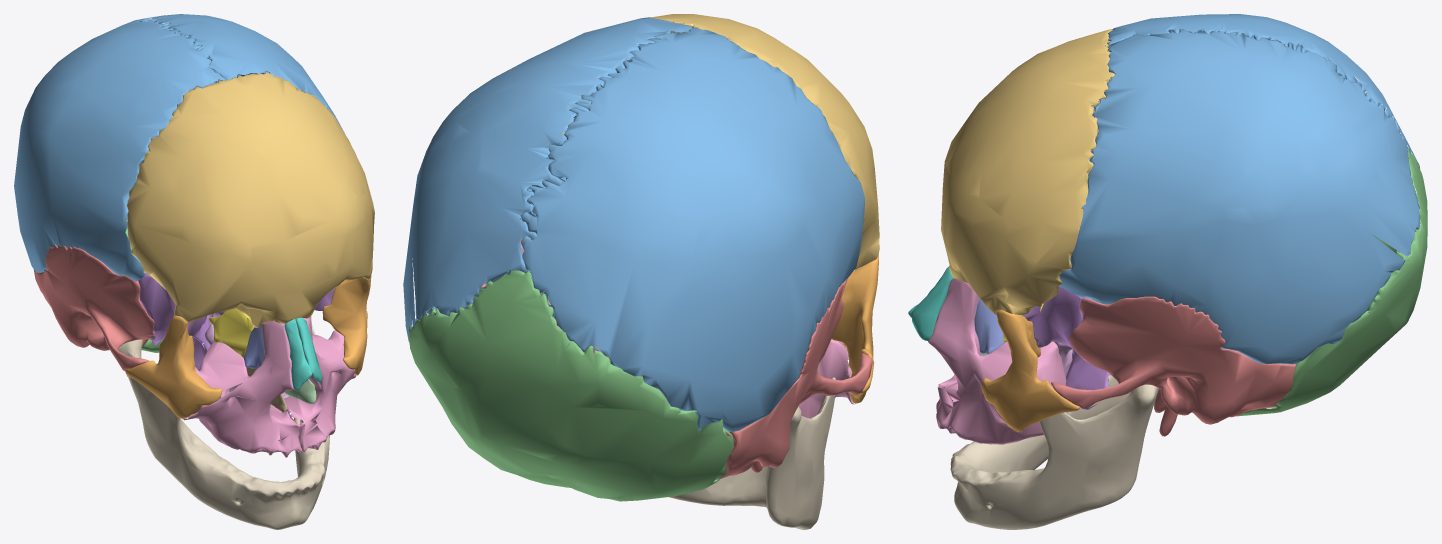
The model's file is skull-bp3d.glb.
3 views of the same model, side by side, from view 1: azimuth 30°, elevation 25°; view 2: azimuth 150°, elevation 25°; view 3: azimuth 270°, elevation 25° (orthographic). The views are drawn at different scales.
Parts seen in each view (by area): view 1: frontal_bone, right_parietal_bone, mandible, right_maxilla, right_temporal_bone, left_parietal_bone, right_zygomatic_bone, left_maxilla, left_zygomatic_bone, sphenoid_bone, ethmoid_bone, right_nasal_bone (+3 smaller); view 2: right_parietal_bone, occipital_bone, left_parietal_bone, frontal_bone, mandible, right_temporal_bone, right_zygomatic_bone, right_maxilla; view 3: left_parietal_bone, frontal_bone, mandible, left_temporal_bone, left_maxilla, occipital_bone, right_parietal_bone, left_zygomatic_bone, sphenoid_bone, left_nasal_bone, left_lacrimal_bone.
Boxes of the visible parts, bbox=[...] form: frontal_bone: bbox=[126, 72, 374, 327]; right_parietal_bone: bbox=[14, 18, 225, 281]; mandible: bbox=[118, 324, 329, 529]; right_maxilla: bbox=[182, 321, 302, 457]; right_temporal_bone: bbox=[33, 244, 154, 376]; left_parietal_bone: bbox=[138, 14, 344, 133]; right_zygomatic_bone: bbox=[125, 315, 222, 418]; left_maxilla: bbox=[271, 316, 355, 451]; left_zygomatic_bone: bbox=[322, 276, 371, 375]; sphenoid_bone: bbox=[138, 273, 334, 370]; ethmoid_bone: bbox=[209, 308, 261, 358]; right_nasal_bone: bbox=[284, 319, 312, 390]; right_parietal_bone: bbox=[521, 27, 864, 431]; occipital_bone: bbox=[408, 270, 734, 501]; left_parietal_bone: bbox=[403, 17, 692, 341]; frontal_bone: bbox=[563, 14, 879, 269]; mandible: bbox=[668, 377, 835, 529]; right_temporal_bone: bbox=[717, 278, 872, 479]; right_zygomatic_bone: bbox=[831, 254, 878, 403]; right_maxilla: bbox=[798, 339, 855, 418]; left_parietal_bone: bbox=[1059, 29, 1420, 364]; frontal_bone: bbox=[941, 29, 1114, 314]; mandible: bbox=[950, 374, 1158, 529]; left_temporal_bone: bbox=[1051, 296, 1295, 436]; left_maxilla: bbox=[928, 278, 1066, 444]; occipital_bone: bbox=[1236, 148, 1427, 416]; right_parietal_bone: bbox=[1088, 14, 1419, 167]; left_zygomatic_bone: bbox=[981, 310, 1080, 432]; sphenoid_bone: bbox=[1022, 269, 1110, 409]; left_nasal_bone: bbox=[911, 266, 953, 340]; left_lacrimal_bone: bbox=[974, 298, 1004, 353].
Size of the model in its own units: 0.1512 by 0.2147 by 0.2087.
